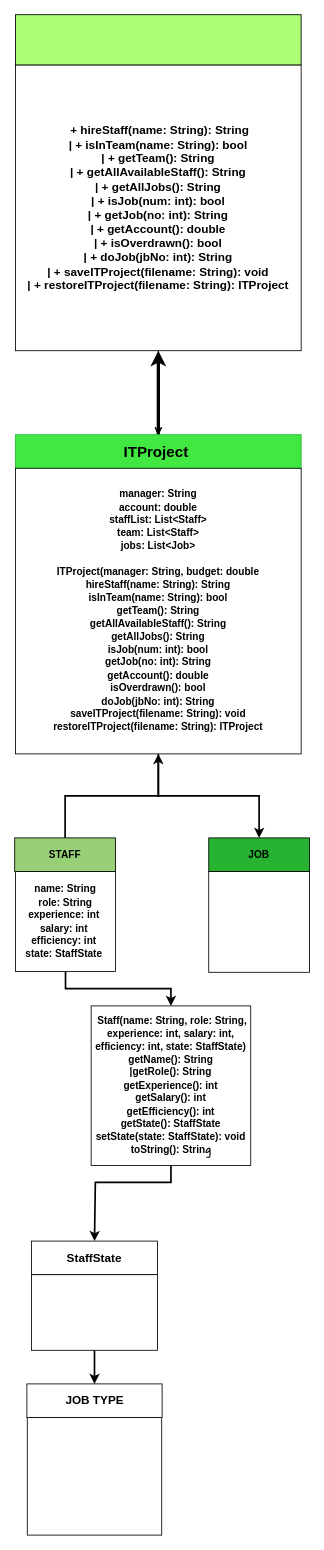
Image size: 324x1550. Some labels were removed from this diagram. Each missing label, with the centre of its shape:
"AVAILABE WORKING ON HOLIDAY" belongs at [94,1312].
"BITS" belongs at [158,39].
"id: int type: String duration: int reward: int complexity: int" belongs at [259,921].
"JOB TYPE HARDWARE SOFTWARE ANALYSIS" belongs at [94,1476].
